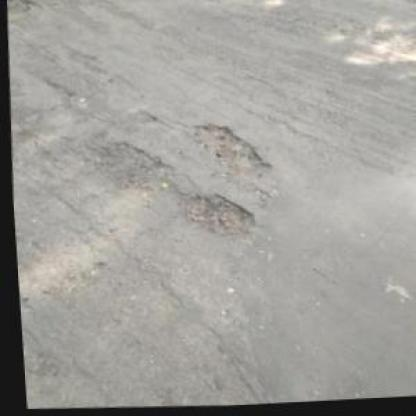pothole: (187, 120, 276, 184), (84, 139, 179, 198), (178, 190, 257, 247)
